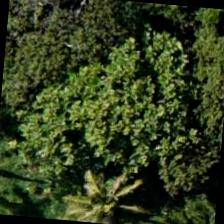Kelapa_Sawit: (58, 155, 154, 223)
